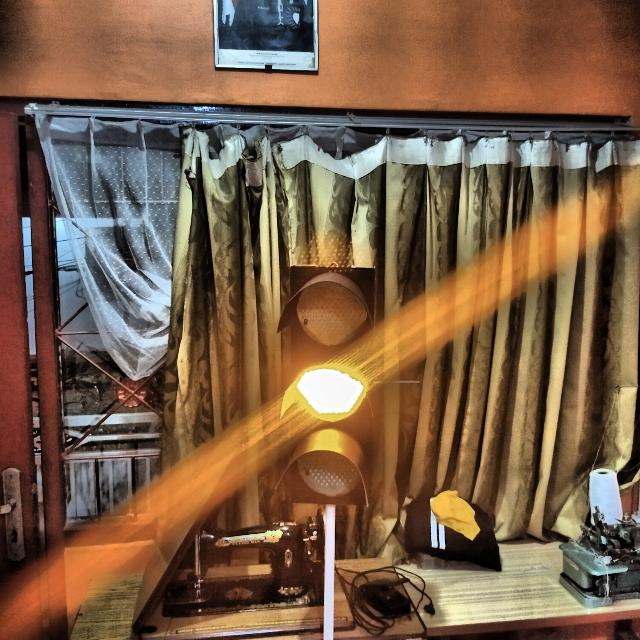yellow: (278, 268, 376, 509)
